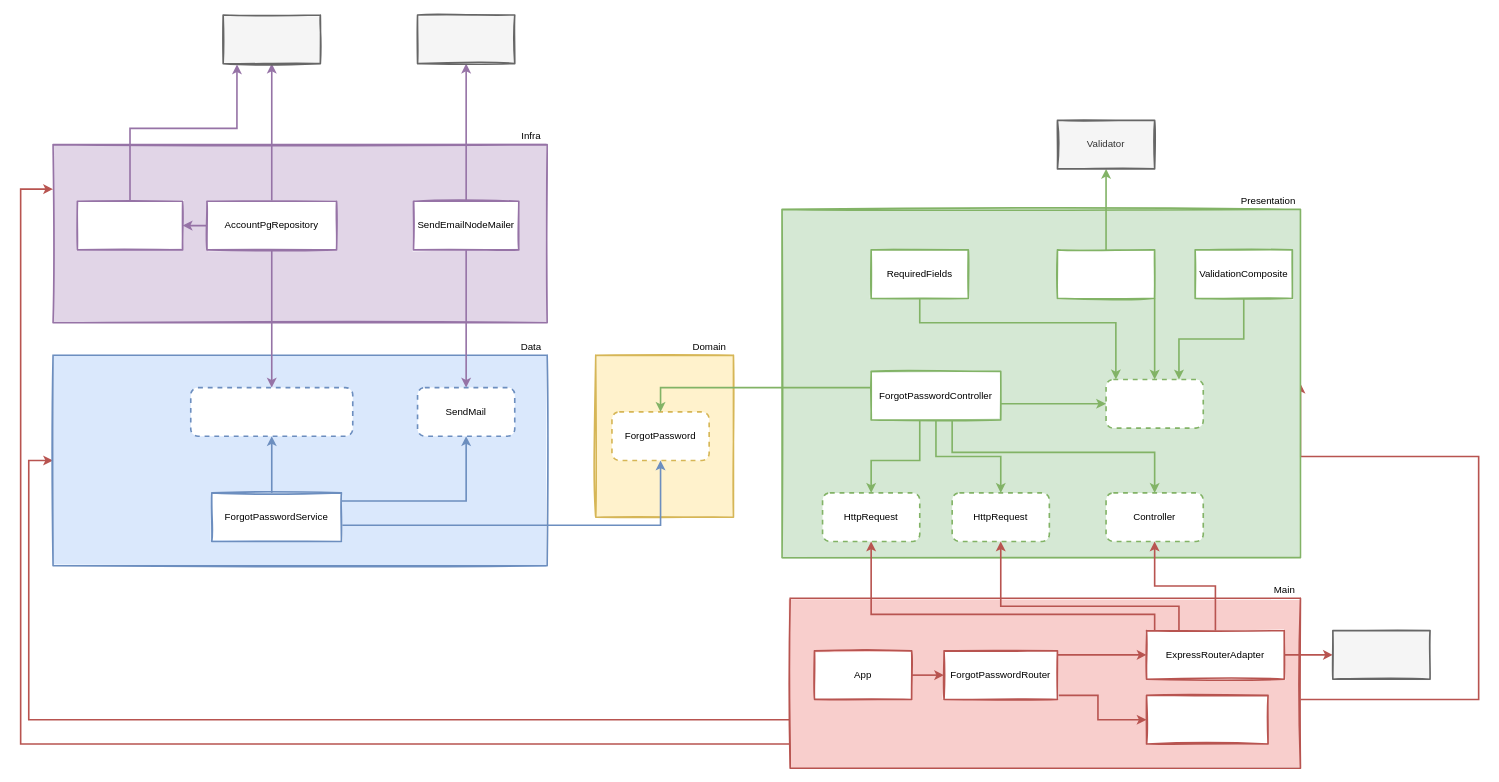
This 1499x782 diagram has some shape labels left out. The centre of each missing label's shape, as x and y in pixels:
EmailValidator: point 1105,274
Express: point 1381,654
ForgotPasswordFactory: point 1206,719
LoadAccountByEmailRepository: point 271,411
Nodemailer: point 465,39
TypeOrm: point 271,39
UserEntity: point 129,225
Validation: point 1154,403
